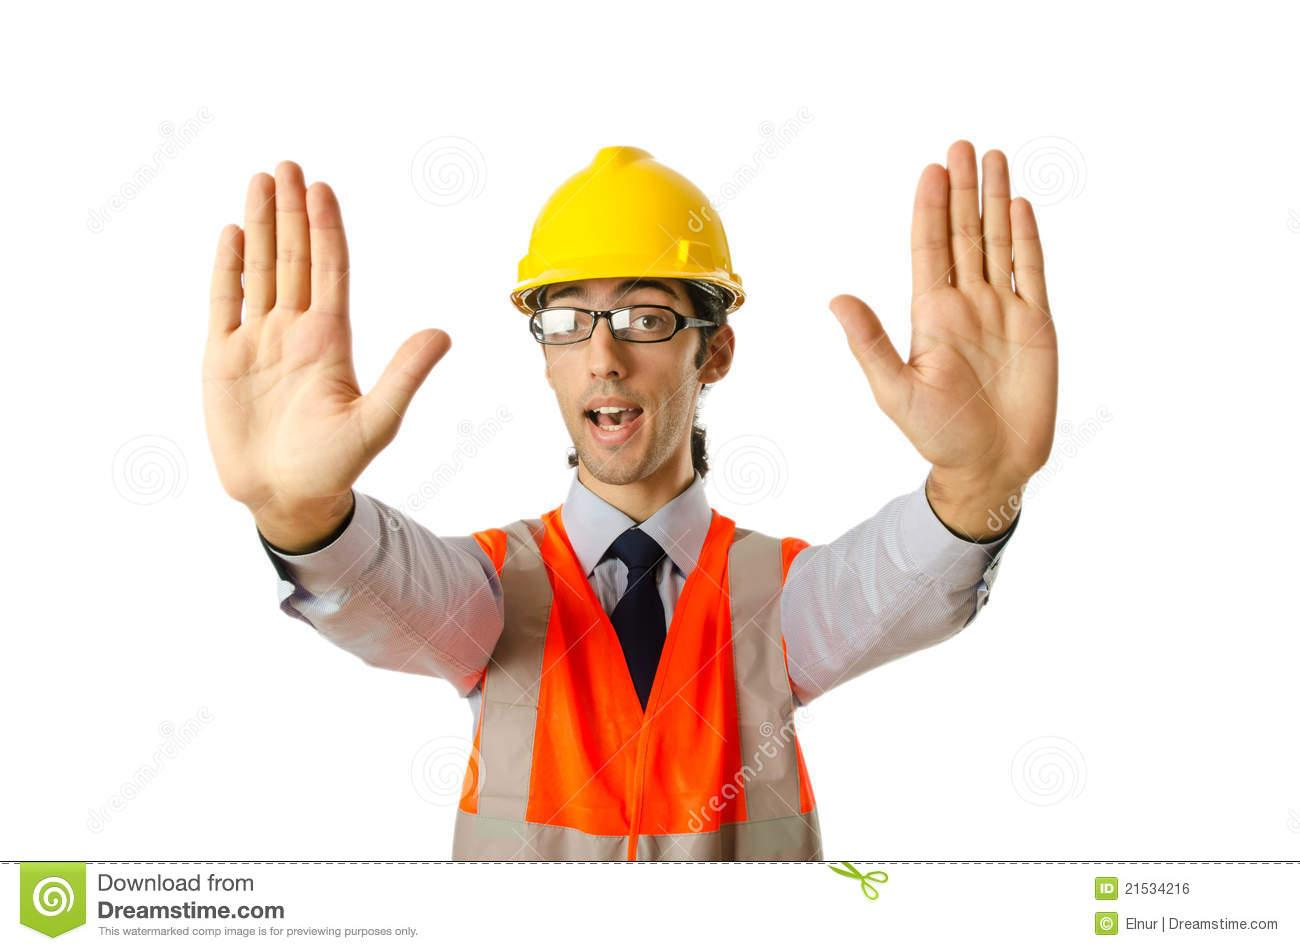helmet: (512, 144, 751, 314)
